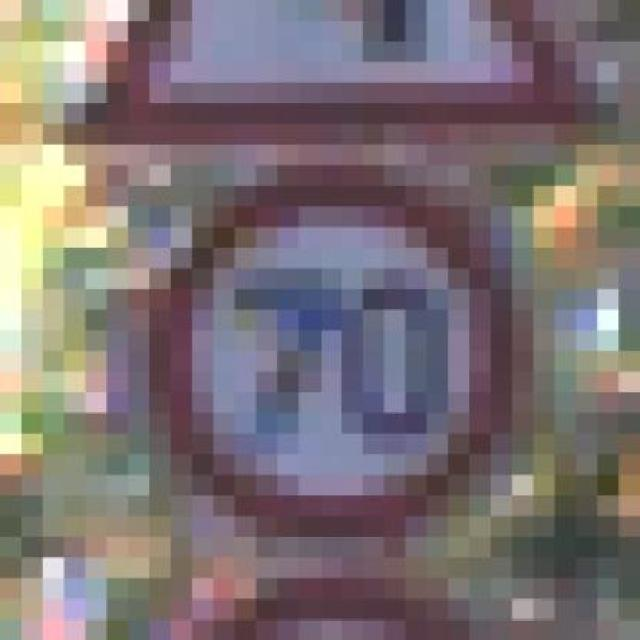forb_speed_over_70: (154, 163, 531, 534)
